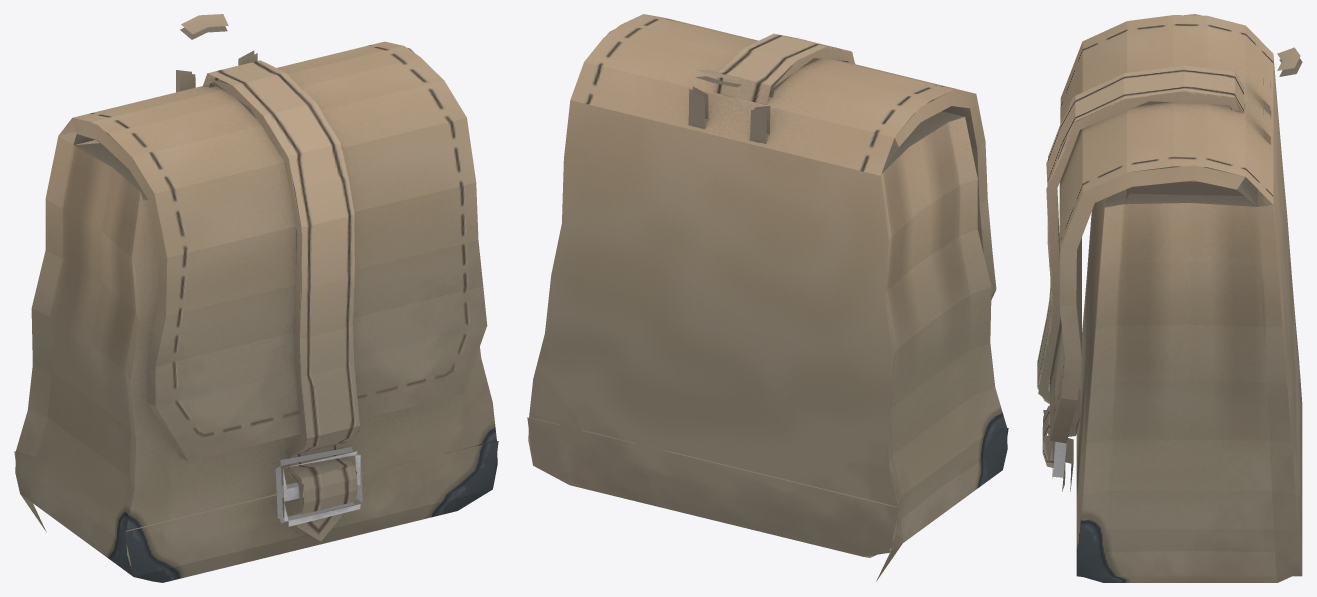
3 views of the same model, side by side, from view 1: azimuth 30°, elevation 25°; view 2: azimuth 150°, elevation 25°; view 3: azimuth 270°, elevation 25° (orthographic).
Parts seen in each view (by area): view 1: Cube.002; view 2: Cube.002; view 3: Cube.002.
Part boxes in pixels (x1,y1,x2,y2): Cube.002: (14, 14, 498, 582); Cube.002: (527, 14, 1008, 581); Cube.002: (1037, 14, 1302, 582).
Bounding box in the file's own units: 2.04 × 2.48 × 1.26.
Materials: 1 (1 with a texture image).
